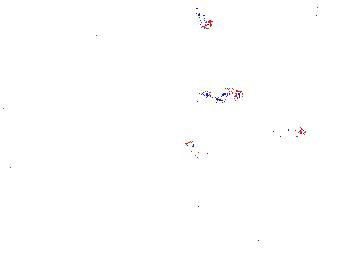X-ray fish: (300, 219, 343, 239), (182, 138, 223, 158), (240, 236, 271, 260)
red belly glassfish: (271, 122, 307, 141), (204, 88, 246, 103), (196, 10, 214, 30)
redtail glassfish: (304, 1, 346, 22)
